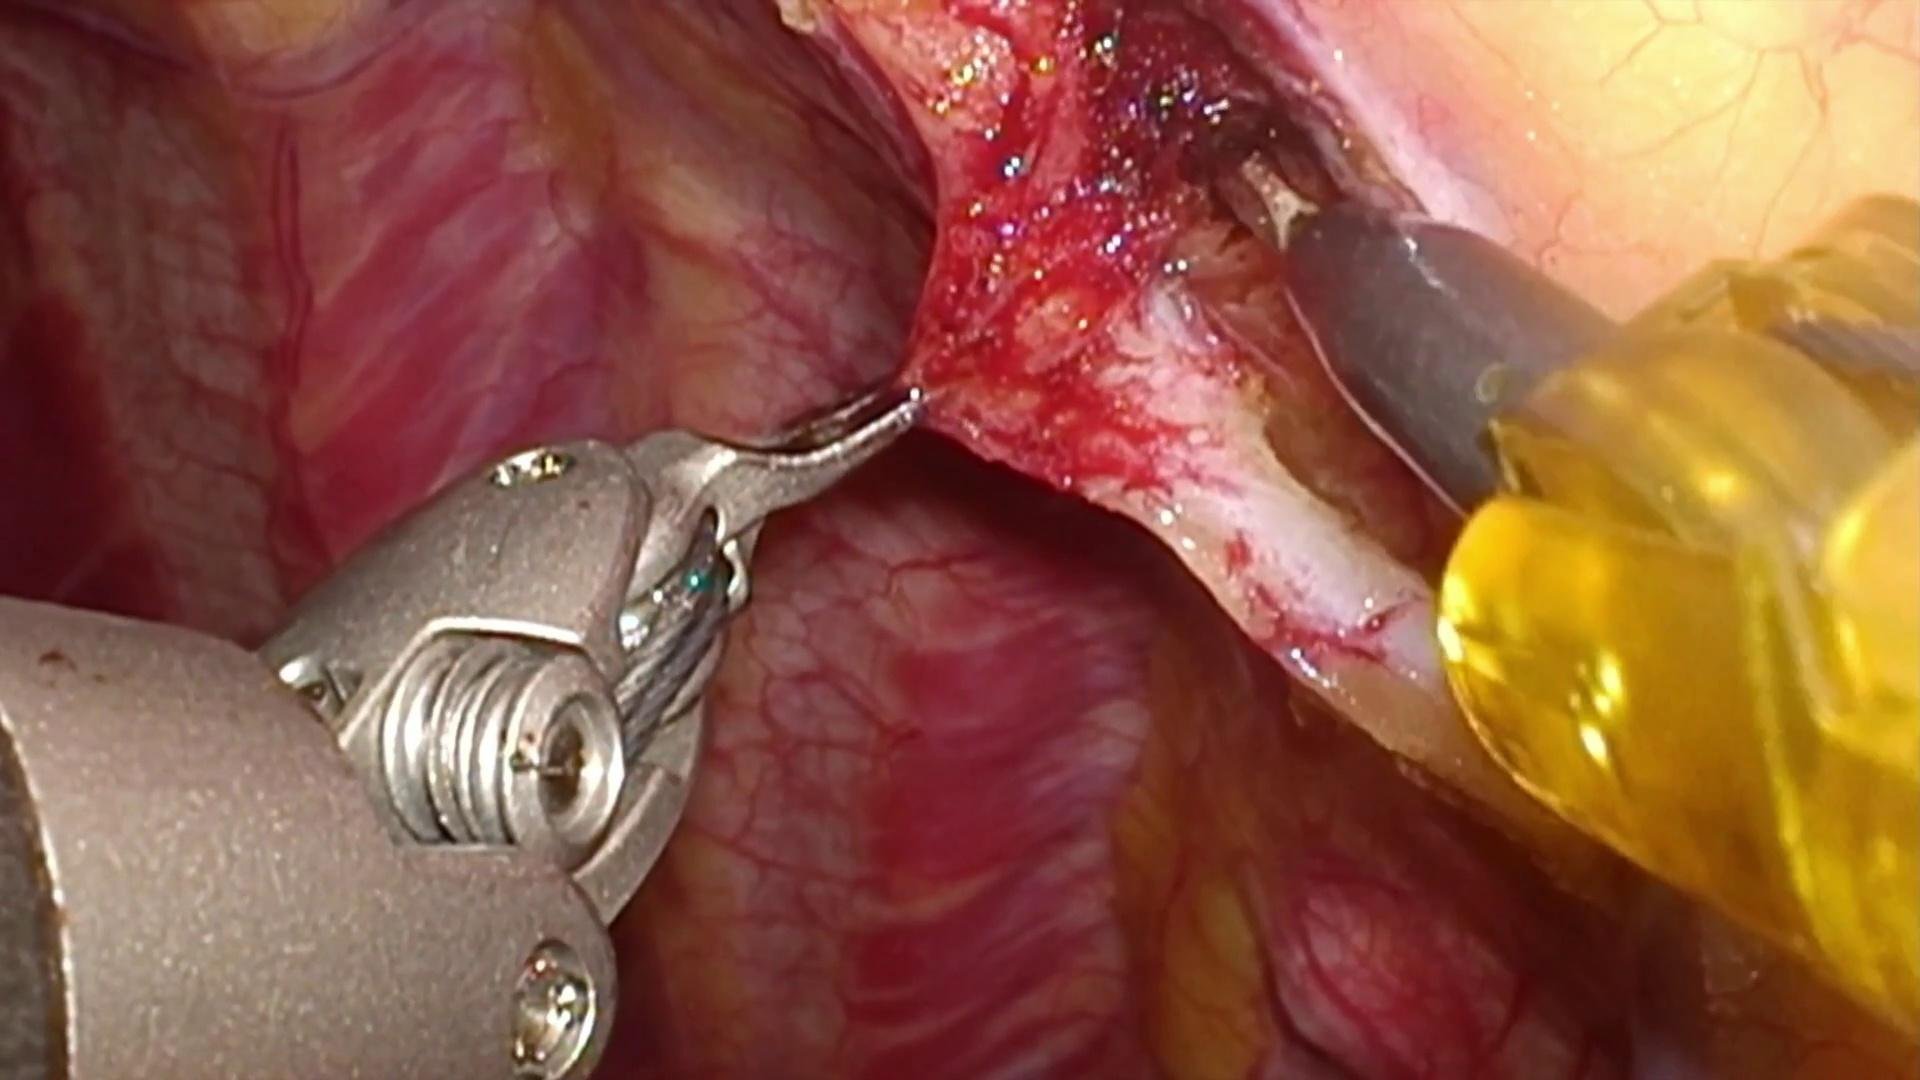Cautery_Spatula: (1200, 135, 1619, 531)
Debakey: (632, 351, 938, 583)
